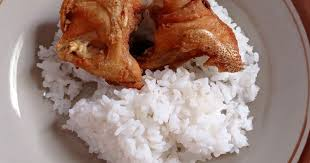Ayam goreng: (67, 68, 261, 163), (142, 3, 244, 76), (56, 1, 142, 85)
